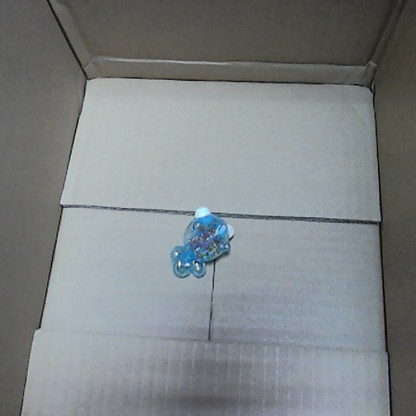bluefish: (168, 204, 236, 279)
